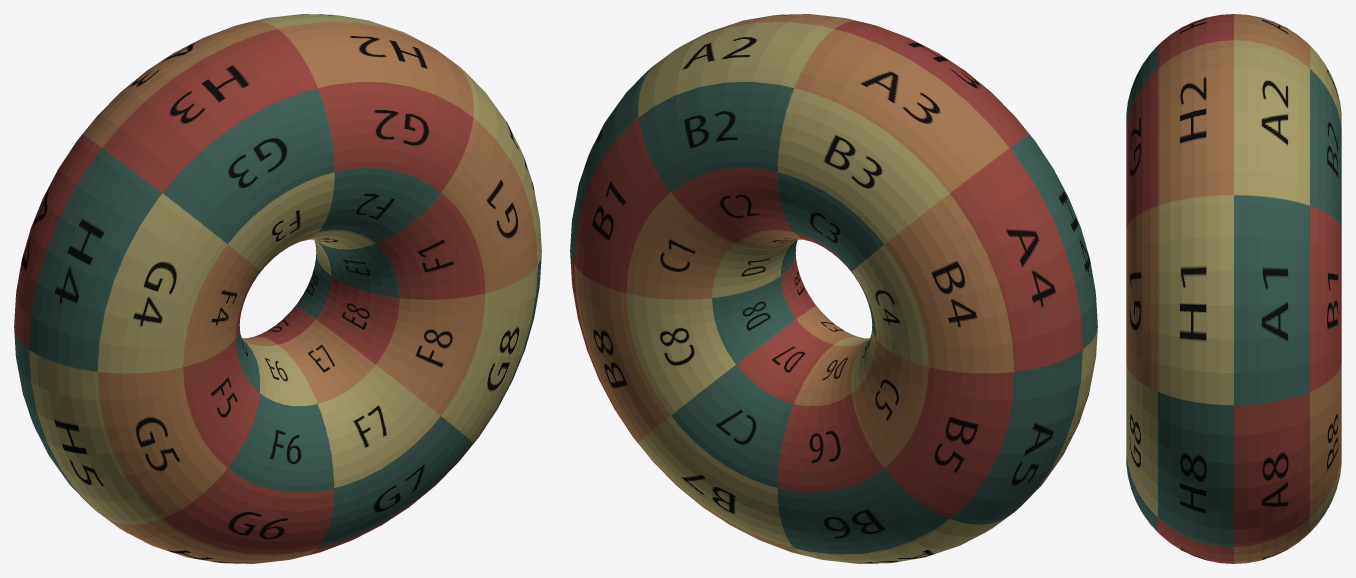
Rendered from texture_torus_R2_r20.glb.
3 renders of one model, left to right at view 1: azimuth 30°, elevation 25°; view 2: azimuth 150°, elevation 25°; view 3: azimuth 270°, elevation 25°, orthographic. The views are drawn at different scales.
Parts seen in each view (by area): view 1: world; view 2: world; view 3: world.
Boxes of the visible parts, x1,y1,x2,y2 form: world: (14,14,541,563); world: (570,14,1097,563); world: (1126,14,1341,563).
Size of the model in its own units: 18.67 by 18.63 by 7.32.
Materials: 1 (1 with a texture image).
